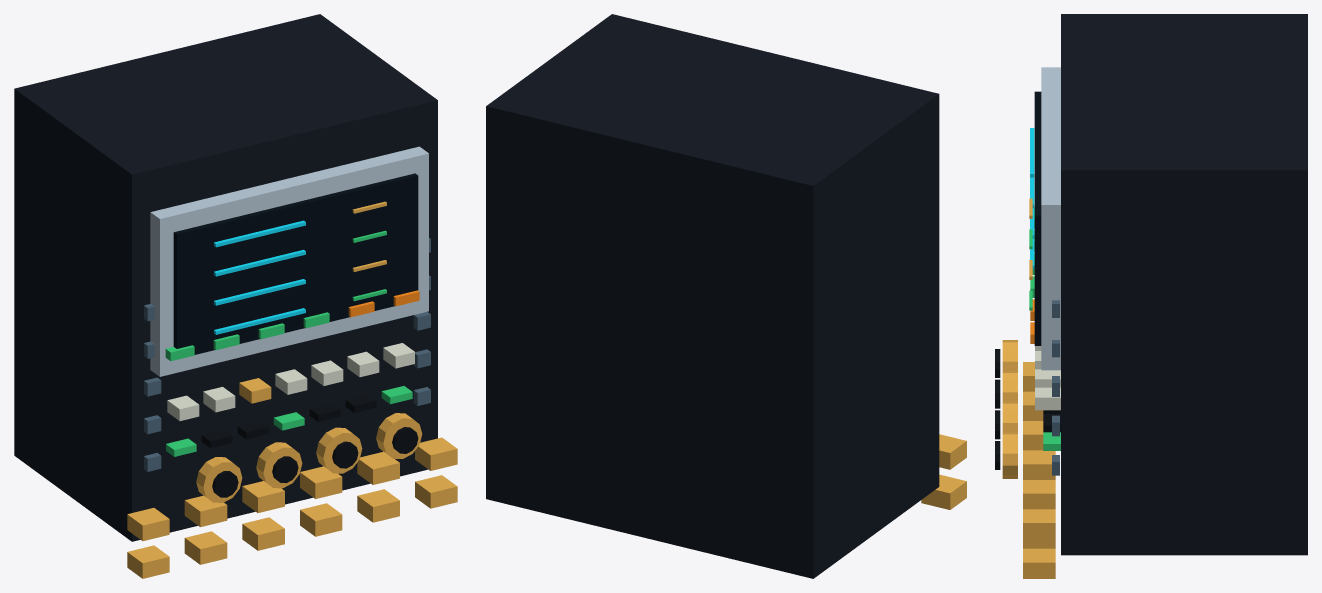
Rendered from 61_L92_GeologicalUncertaintyEstimator.fbx.
3 renders of one model, left to right at view 1: azimuth 30°, elevation 25°; view 2: azimuth 150°, elevation 25°; view 3: azimuth 270°, elevation 25°, orthographic. The views are drawn at different scales.
Visible parts, largest first — view 1: L92_GeologicalUncertaintyEstimator, L92_GeologicalUncertaintyEstimator_Part_0009, L92_GeologicalUncertaintyEstimator_Part_0013, L92_GeologicalUncertaintyEstimator_Part_0015, L92_GeologicalUncertaintyEstimator_Part_0011, L92_GeologicalUncertaintyEstimator_Part_0017, L92_GeologicalUncertaintyEstimator_Part_0010, L92_GeologicalUncertaintyEstimator_Part_0016; view 2: L92_GeologicalUncertaintyEstimator; view 3: L92_GeologicalUncertaintyEstimator, L92_GeologicalUncertaintyEstimator_Part_0017, L92_GeologicalUncertaintyEstimator_Part_0013, L92_GeologicalUncertaintyEstimator_Part_0011, L92_GeologicalUncertaintyEstimator_Part_0015.
Part boxes in pixels (box(x1,y1,x2,y2)): L92_GeologicalUncertaintyEstimator: box(14, 14, 457, 578); L92_GeologicalUncertaintyEstimator_Part_0009: box(165, 312, 329, 361); L92_GeologicalUncertaintyEstimator_Part_0013: box(256, 442, 302, 488); L92_GeologicalUncertaintyEstimator_Part_0015: box(316, 427, 362, 473); L92_GeologicalUncertaintyEstimator_Part_0011: box(196, 457, 242, 502); L92_GeologicalUncertaintyEstimator_Part_0017: box(376, 413, 422, 458); L92_GeologicalUncertaintyEstimator_Part_0010: box(348, 290, 419, 317); L92_GeologicalUncertaintyEstimator_Part_0016: box(332, 441, 358, 468); L92_GeologicalUncertaintyEstimator: box(486, 14, 966, 578); L92_GeologicalUncertaintyEstimator: box(1023, 14, 1307, 578); L92_GeologicalUncertaintyEstimator_Part_0017: box(1002, 432, 1017, 478); L92_GeologicalUncertaintyEstimator_Part_0013: box(1002, 370, 1017, 401); L92_GeologicalUncertaintyEstimator_Part_0011: box(1002, 340, 1017, 370); L92_GeologicalUncertaintyEstimator_Part_0015: box(1002, 401, 1017, 431).
Size of the model in its own units: 105 by 124 by 86.2.
